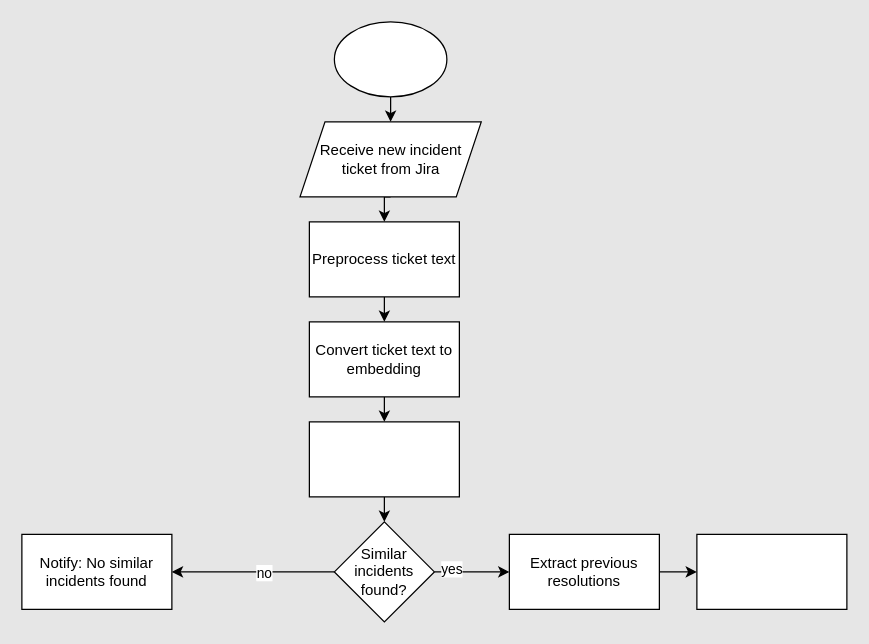
Image size: 869x644. Some labels were removed from this diagram. The shapes that lost their labels are listed below. From the top down, each one's box as (x1, y1, x2, y2) in pixels, then its label:
(333, 21, 447, 97): start
(308, 421, 459, 497): Search for similar resolved incidents
(696, 533, 847, 609): Generate suggested fixes
